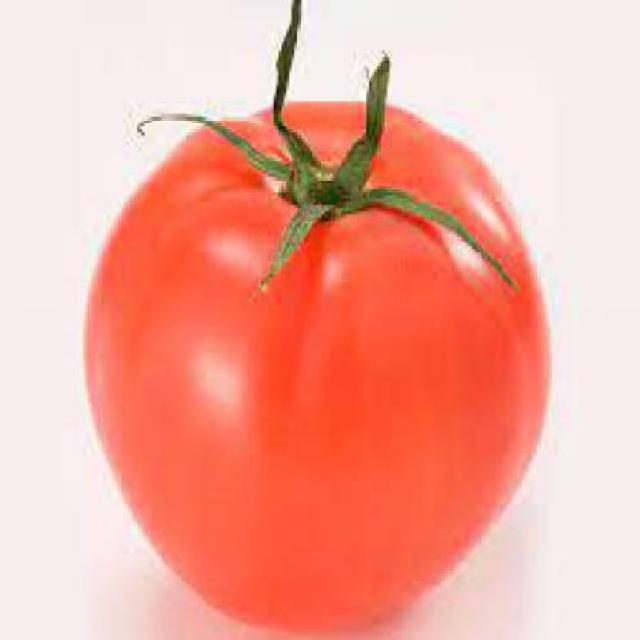kirmizi: (82, 35, 556, 623)
